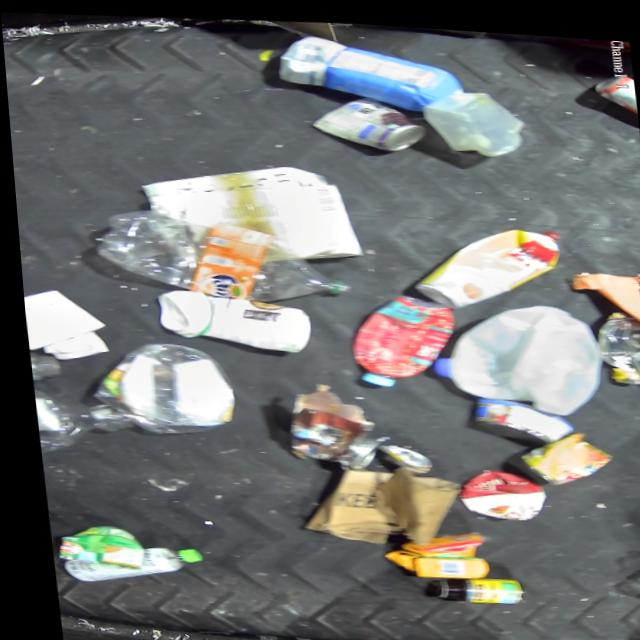can: (305, 86, 429, 150), (506, 418, 611, 482), (462, 386, 571, 442), (368, 436, 428, 471), (325, 429, 376, 468)
milk_jug: (420, 288, 604, 414), (620, 556, 640, 602)
plastic_bottle: (86, 196, 351, 308)
